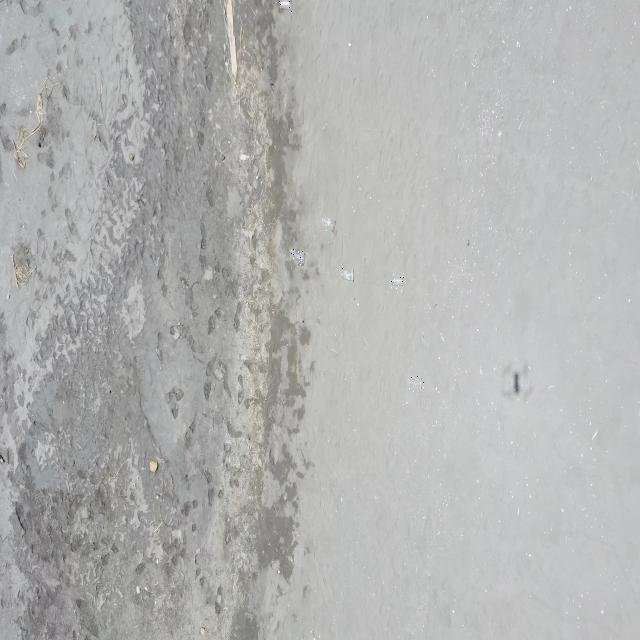takeaway-cup: (408, 376, 424, 392), (320, 216, 336, 232), (390, 273, 405, 289), (341, 268, 355, 284), (291, 249, 304, 265), (279, 0, 293, 14)
